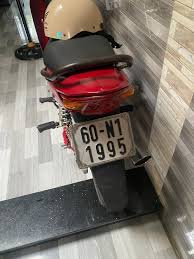Bien-so: (70, 112, 138, 172)
